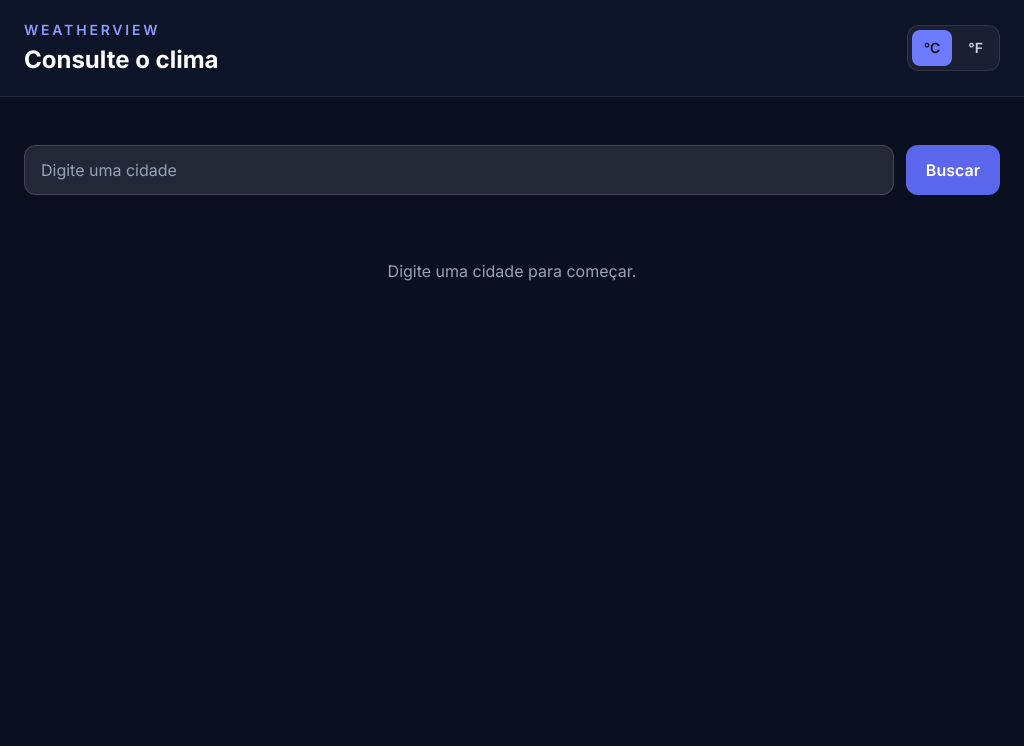
Test: interface do weather app › mostra erro ao consultar o clima e permite tentar novamente
Type "São Paulo" into the search field named "Nome da cidade" at point(459, 170), box 24,145 -> 894,195
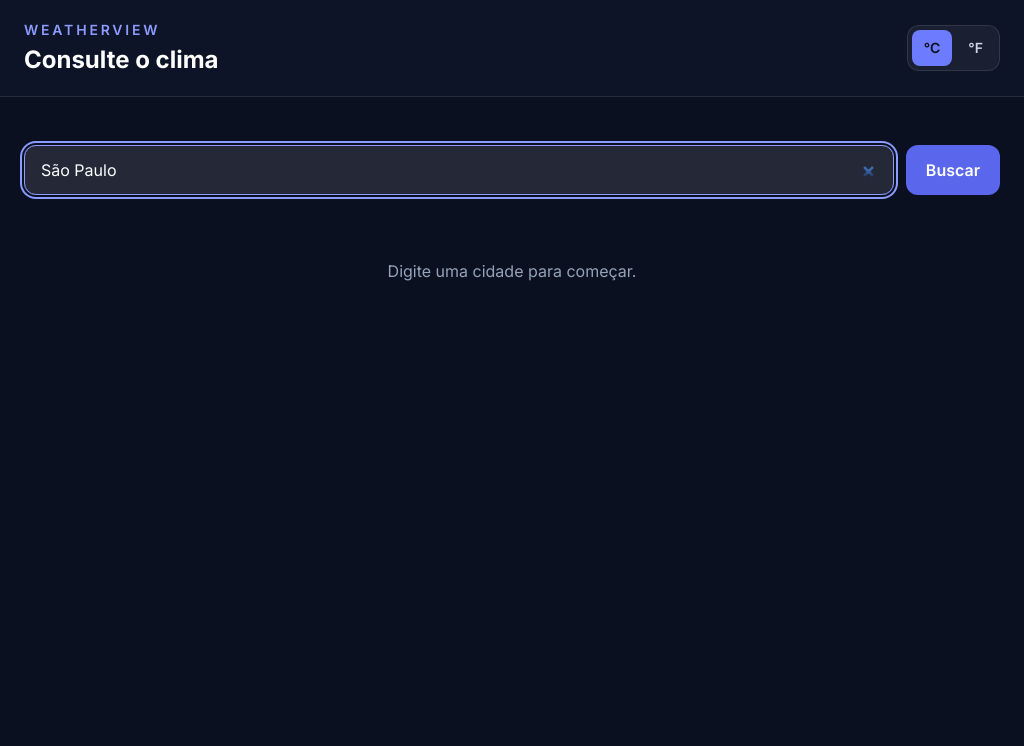
Click the button "Buscar" at point(953, 170), box 906,145 -> 1000,195
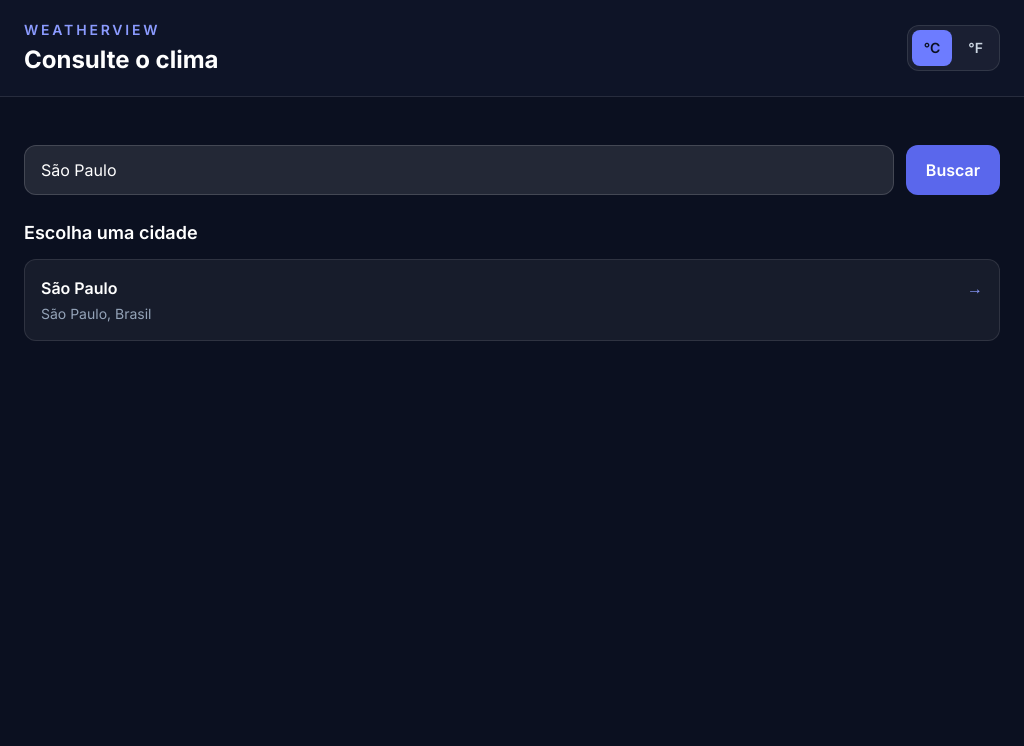
Click the button "São Paulo São Paulo, Brasil →" at point(79, 288), box 24,259 -> 1000,341
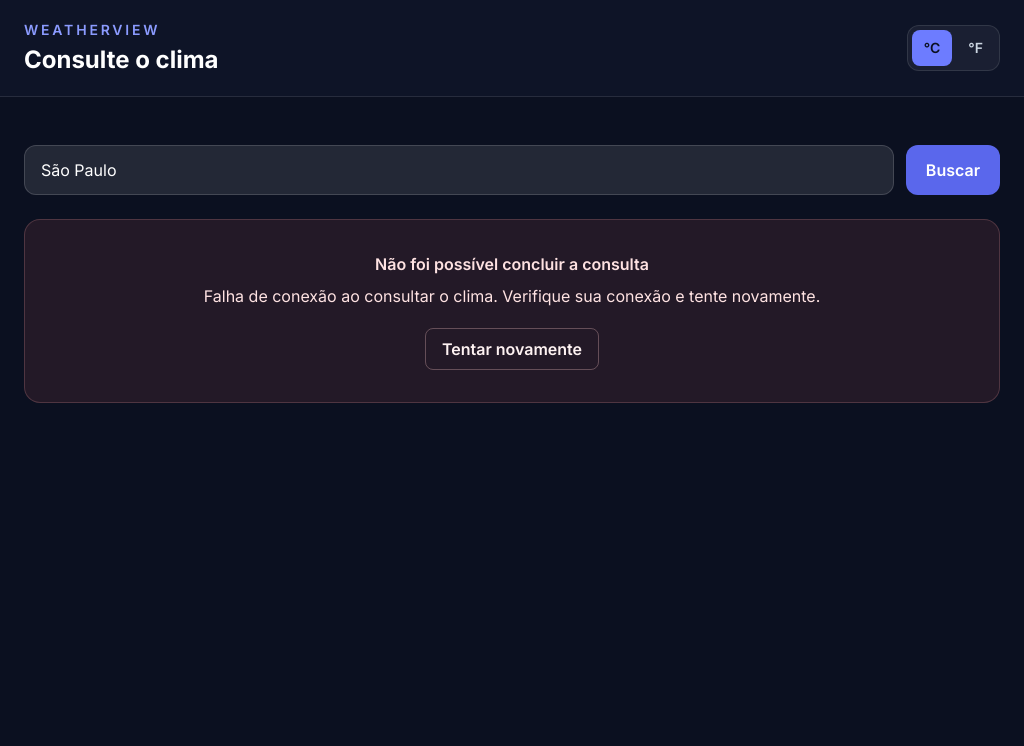
Result: the message is shown at 24,219 -> 1000,403
Click the button "Tentar novamente" at point(512, 349), box 425,328 -> 599,370
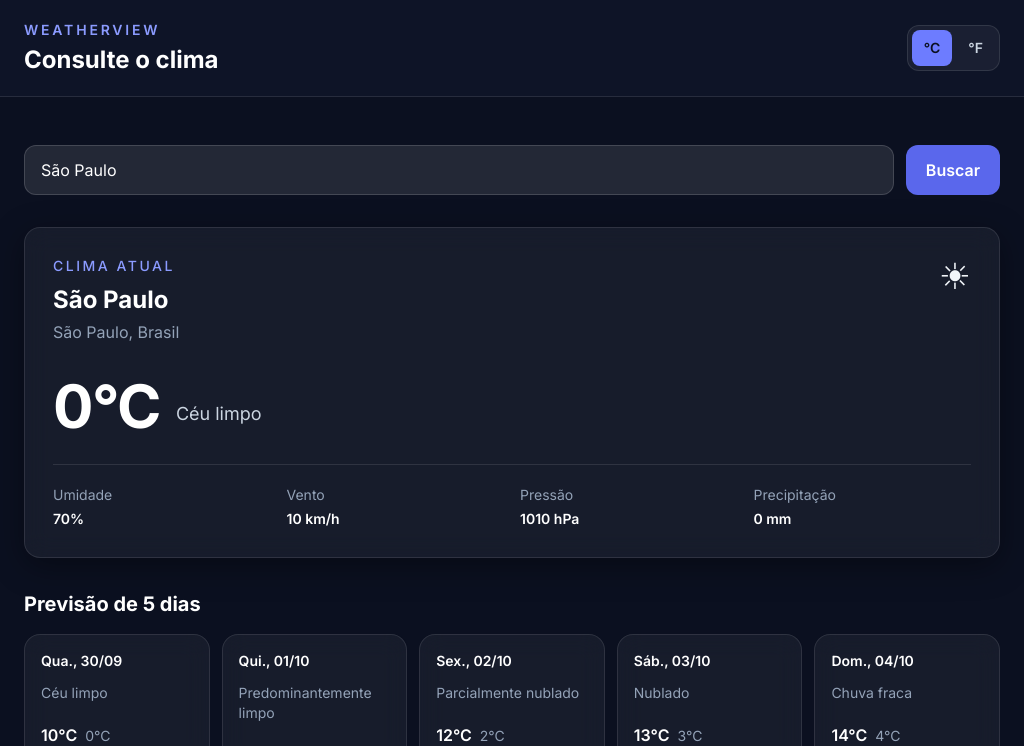
Result: the text "Clima atual" is shown at 53,256 -> 179,276
